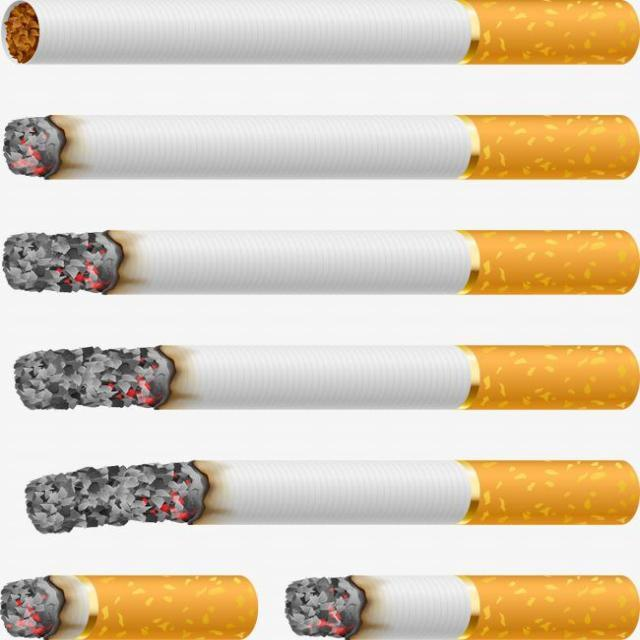cigarette: (6, 111, 637, 188)
